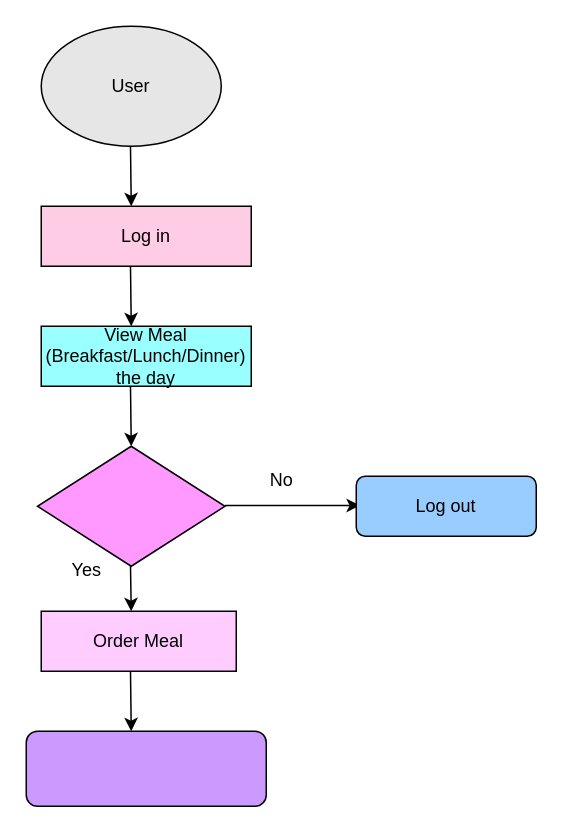
Image size: 563x833. Some labels were removed from this diagram. The box of each missing label's shape, as (x1, y1, x2, y2) in pixels:
Do you want the meal?: (36, 445, 225, 566)
Male is delivered to your Address: (25, 730, 266, 806)
